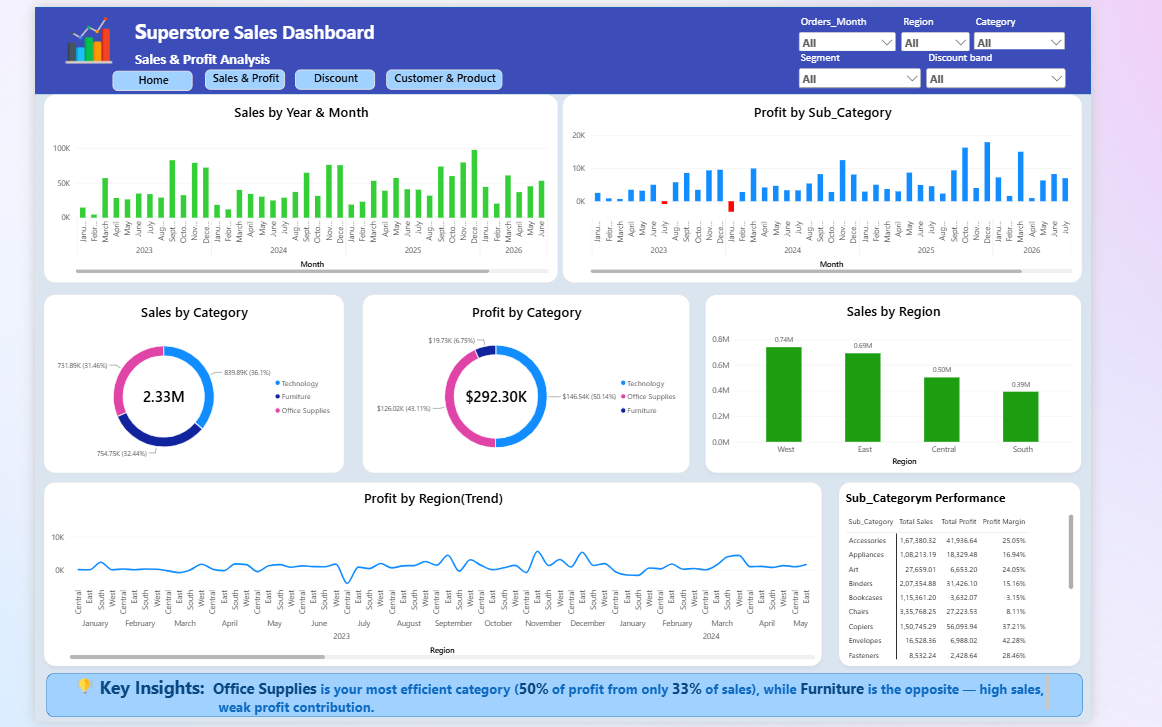

What the dashboard file says about the page in this screenshot:
{"tool":"powerbi","page":{"name":"Sales & Profit Analysis","canvas":[1920,1300],"ordinal":1},"visuals":[{"type":"shape","box":[0,0,1920,158.6],"z":0,"group":"g1"},{"type":"group","id":"g1","title":"Group 2","box":[0,0,1920,158.6],"z":0,"group":"g2"},{"type":"group","id":"g2","title":"Group 1","box":[0,0,1920,158.6],"z":0},{"type":"shape","box":[20.5,1210.3,1884.6,79.5],"z":0,"group":"g4"},{"type":"textbox","box":[181.6,18.8,987.1,60.5],"z":1000,"group":"g1"},{"type":"donutChart","title":"Sales by Category","fields":{"Category":["superstore_cleaned.Category"],"Y":["Key Measure.Total Sales"]},"box":[15.6,522.2,546.7,324.4],"z":1000},{"type":"textbox","box":[30.7,1211.9,1815.6,82.1],"z":1000,"group":"g4"},{"type":"textbox","box":[181.6,77.2,603.1,52.2],"z":2000,"group":"g1"},{"type":"clusteredColumnChart","title":"Sales by Year & Month","fields":{"Category":["superstore_cleaned.Order_Date.Variation.Date Hierarchy.Year","superstore_cleaned.Order_Date.Variation.Date Hierarchy.Month"],"Y":["Key Measure.Total Sales"]},"box":[15.6,160,935.6,342.2],"z":2000},{"type":"image","box":[65.3,1219.9,48.7,28.2],"z":2000,"group":"g4"},{"type":"clusteredColumnChart","title":"Profit by Sub_Category","fields":{"Category":["superstore_cleaned.Order_Date.Variation.Date Hierarchy.Year","superstore_cleaned.Order_Date.Variation.Date Hierarchy.Month"],"Y":["Key Measure.Total Profit"]},"box":[960,160,944.4,342.2],"z":3000},{"type":"slicer","fields":{"Values":["superstore_cleaned.Discount band"]},"box":[1615.3,79.3,263,79.3],"z":4000},{"type":"slicer","fields":{"Values":["superstore_cleaned.Order_Date.Variation.Date Hierarchy.Year"]},"box":[1383.7,12.5,185.7,66.8],"z":5000},{"type":"slicer","fields":{"Values":["superstore_cleaned.Segment"]},"box":[1383.7,79.3,231.7,79.3],"z":6000},{"type":"slicer","fields":{"Values":["superstore_cleaned.Region"]},"box":[1569.4,12.5,133.6,66.8],"z":7000},{"type":"slicer","fields":{"Values":["superstore_cleaned.Category"]},"box":[1702.9,12.7,175.5,63.3],"z":8000},{"type":"image","box":[32.6,18.1,132.1,85.1],"z":9000},{"type":"clusteredColumnChart","title":"Sales by Region","fields":{"Category":["superstore_cleaned.Region"],"Y":["Sum(superstore_cleaned.Sales)"]},"box":[1217.8,522.2,684.4,324.4],"z":10000},{"type":"donutChart","title":"Profit by Category","fields":{"Category":["superstore_cleaned.Category"],"Y":["Sum(superstore_cleaned.Profit)"]},"box":[595.6,522.2,595.6,324.4],"z":11000},{"type":"lineChart","title":"Profit by Region(Trend)","fields":{"Category":["superstore_cleaned.Order_Date.Variation.Date Hierarchy.Year","superstore_cleaned.Order_Date.Variation.Date Hierarchy.Month","superstore_cleaned.Region"],"Y":["Key Measure.Total Profit"]},"box":[15.6,864.4,1415.6,335.6],"z":12000},{"type":"pivotTable","title":"Sub_Categorym Performance","fields":{"Rows":["superstore_cleaned.Sub_Category"],"Values":["Key Measure.Total Sales","Key Measure.Total Profit","Key Measure.Profit Margin"]},"box":[1462.2,864.4,440,335.6],"z":13000},{"type":"group","id":"g3","title":"Group 3","box":[20.5,1210.3,1884.6,83.7],"z":14001},{"type":"group","id":"g4","title":"Group 4","box":[20.5,1210.3,1884.6,83.7],"z":14002,"group":"g3"}]}

Visuals, with their boxes on the page's 1920x1300 design canvas (x1, y1, x2, y2). These are canvas units, not pixel positions in the 1162x727 screenshot, which may show the page scaled, cropped or inside an application window:
shape: [0, 0, 1920, 159]
"Group 2" group: [0, 0, 1920, 159]
"Group 1" group: [0, 0, 1920, 159]
shape: [20, 1210, 1905, 1290]
textbox: [182, 19, 1169, 79]
"Sales by Category" donutChart: [16, 522, 562, 847]
textbox: [31, 1212, 1846, 1294]
textbox: [182, 77, 785, 129]
"Sales by Year & Month" clusteredColumnChart: [16, 160, 951, 502]
image: [65, 1220, 114, 1248]
"Profit by Sub_Category" clusteredColumnChart: [960, 160, 1904, 502]
slicer - superstore_cleaned.Discount band: [1615, 79, 1878, 159]
slicer - superstore_cleaned.Order_Date.Variation.Date Hierarchy.Year: [1384, 12, 1569, 79]
slicer - superstore_cleaned.Segment: [1384, 79, 1615, 159]
slicer - superstore_cleaned.Region: [1569, 12, 1703, 79]
slicer - superstore_cleaned.Category: [1703, 13, 1878, 76]
image: [33, 18, 165, 103]
"Sales by Region" clusteredColumnChart: [1218, 522, 1902, 847]
"Profit by Category" donutChart: [596, 522, 1191, 847]
"Profit by Region(Trend)" lineChart: [16, 864, 1431, 1200]
"Sub_Categorym Performance" pivotTable: [1462, 864, 1902, 1200]
"Group 3" group: [20, 1210, 1905, 1294]
"Group 4" group: [20, 1210, 1905, 1294]
